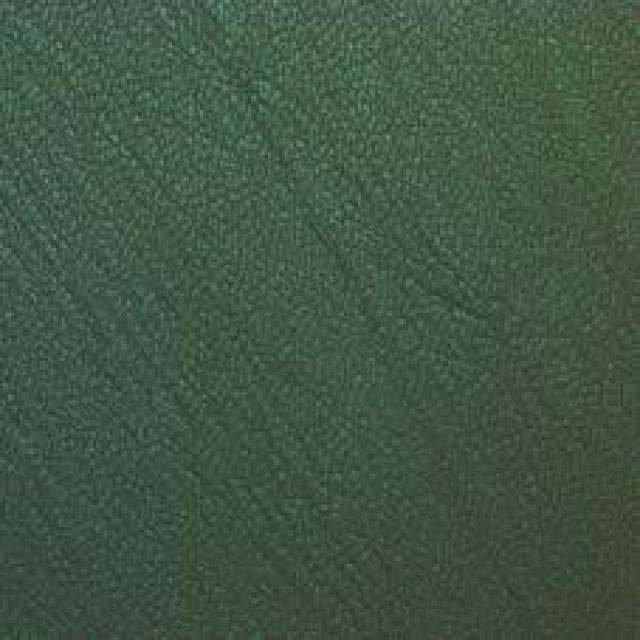Growth Marks: (34, 117, 188, 355), (233, 70, 370, 265)
